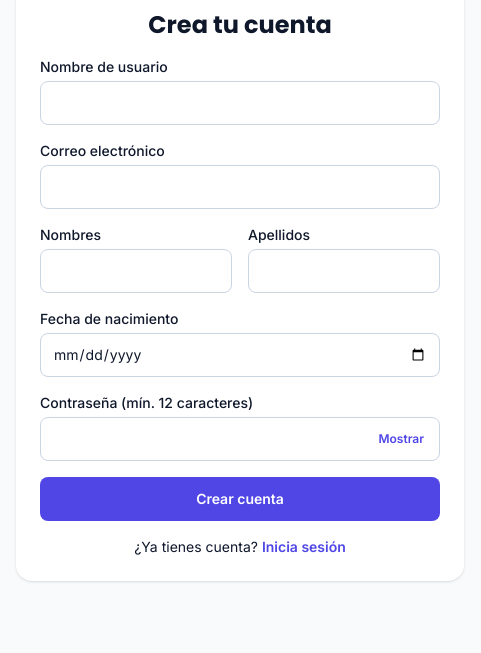
Test case: Registro › 409 → mensaje genérico sin detalles internos
The width and height of the screenshot is (481, 653).
Step 1. Type "andrea" into the field labelled "Nombre de usuario" → (240, 103), box [40,81,440,125]
Step 2. Type "andrea@example.test" into the field labelled "Correo electrónico" → (240, 187), box [40,165,440,209]
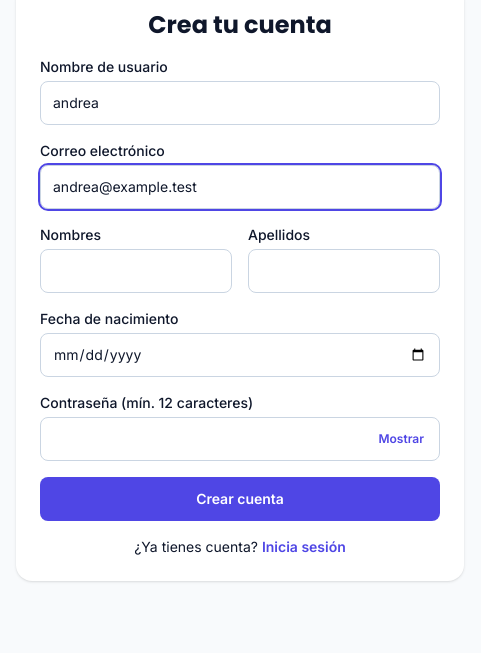
Step 3. Type "Andrea" into the field labelled "Nombres" → (136, 271), box [40,249,232,293]
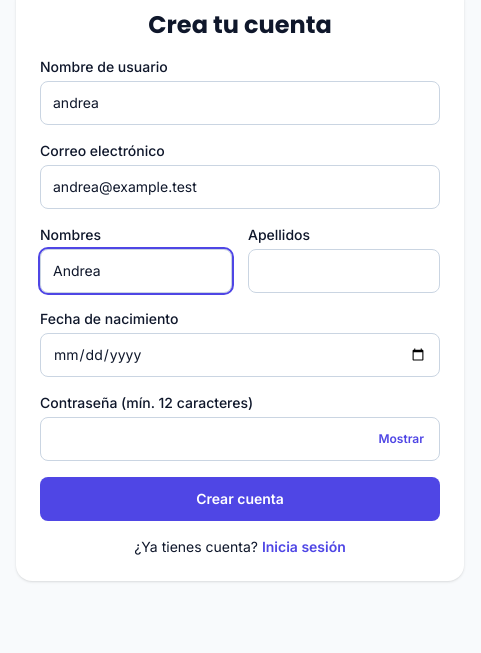
Step 4. Type "Ruiz" into the field labelled "Apellidos" → (344, 271), box [248,249,440,293]
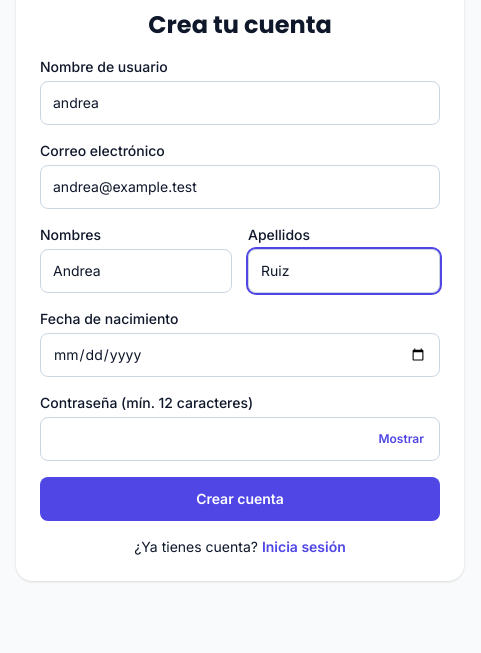
Step 5. Type "1998-04-12" into the date field labelled "Fecha de nacimiento" → (240, 355), box [40,333,440,377]
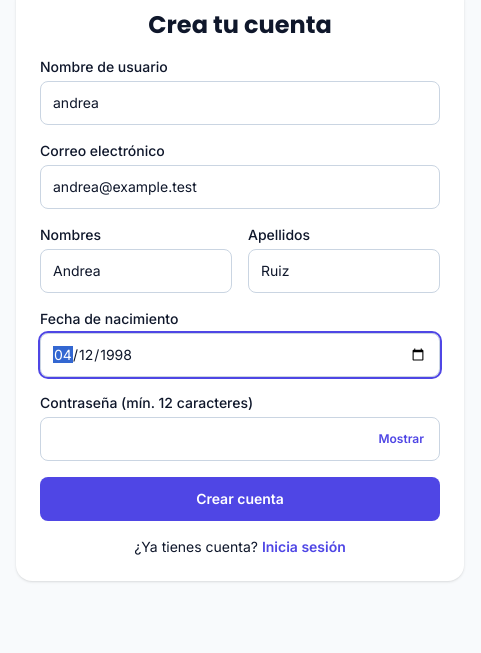
Step 6. Type "ClaveSegura-2026" into the password field labelled "Contraseña (mín. 12 caracteres)" → (240, 439), box [40,417,440,461]
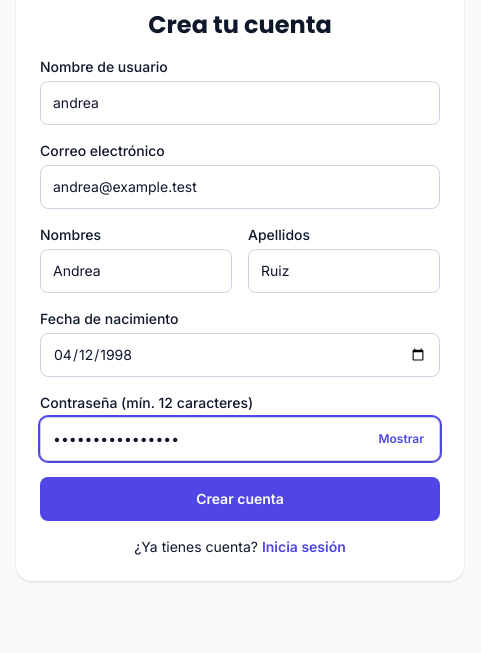
Step 7. Click the button "Crear cuenta" → (240, 499), box [40,477,440,521]
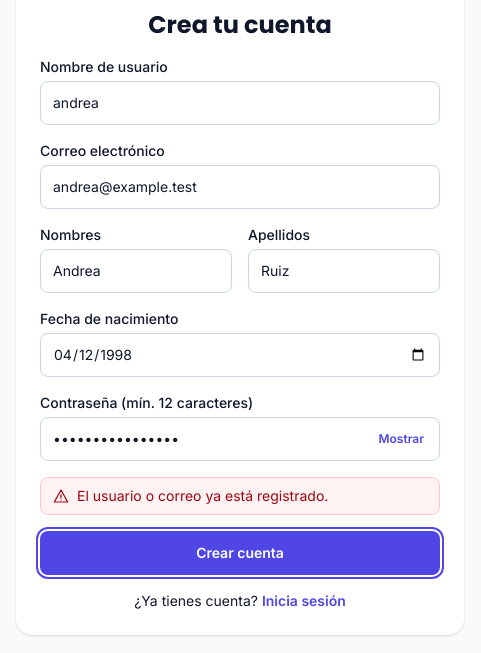
Expected: the message reads "El usuario o correo ya está registrado.", [77,487,328,504]
